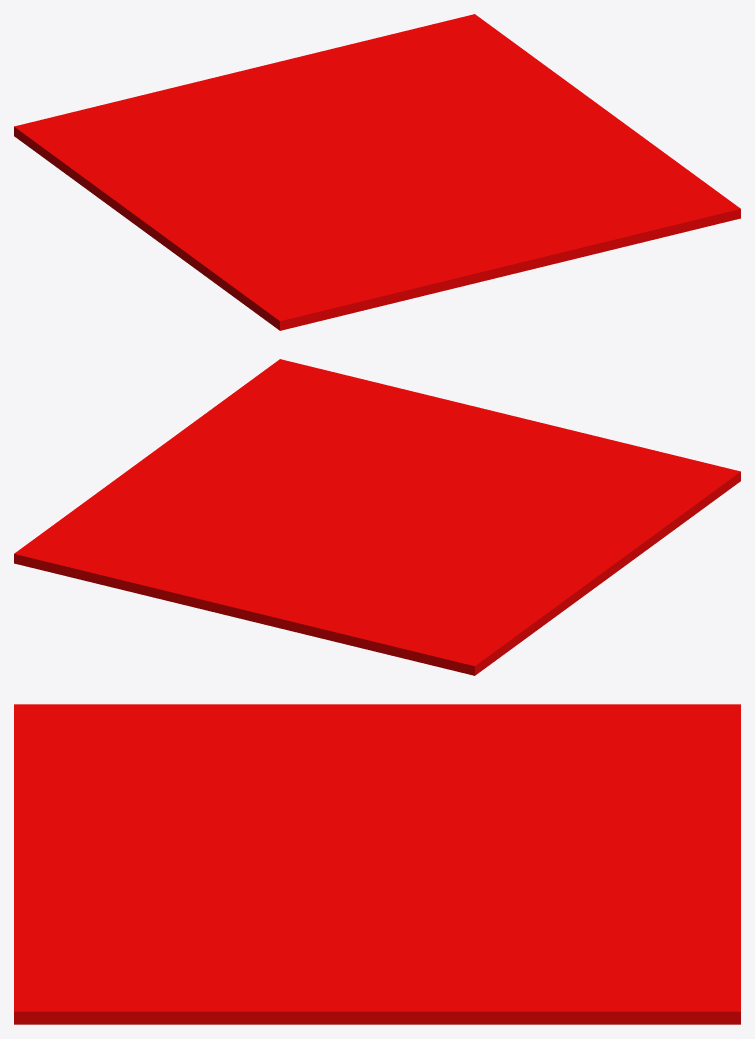
File: Greybox.fbx
3 views of the same model, one above another, from view 1: azimuth 30°, elevation 25°; view 2: azimuth 150°, elevation 25°; view 3: azimuth 270°, elevation 25° (orthographic). The views are drawn at different scales.
Parts seen in each view (by area): view 1: Ceiling; view 2: Ceiling; view 3: Ceiling.
Boxes of the visible parts, x1=… form: Ceiling: x1=14, y1=14, x2=740, y2=330; Ceiling: x1=14, y1=359, x2=740, y2=675; Ceiling: x1=14, y1=704, x2=740, y2=1024.
Size of the model in its own units: 5000 by 700 by 5000.
